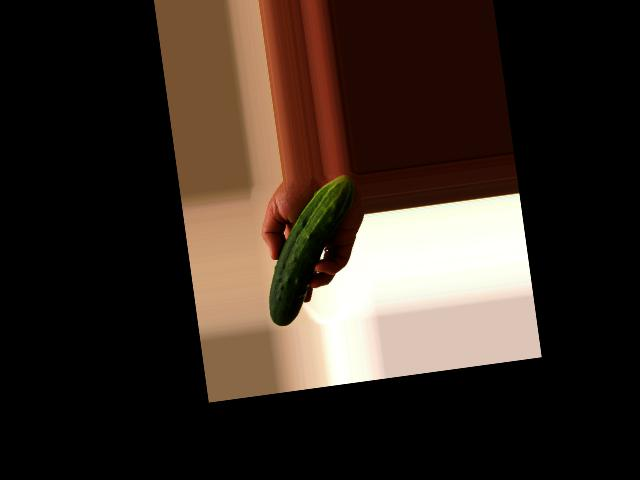cucumber: (253, 174, 372, 327)
